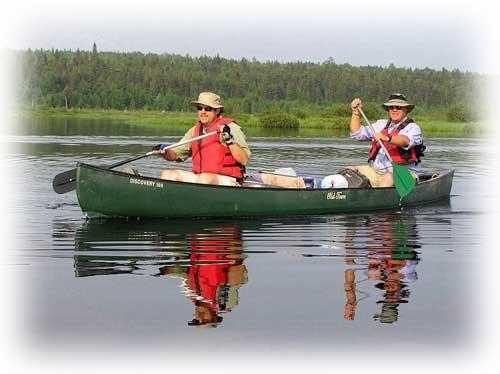kayak: (54, 158, 455, 219)
